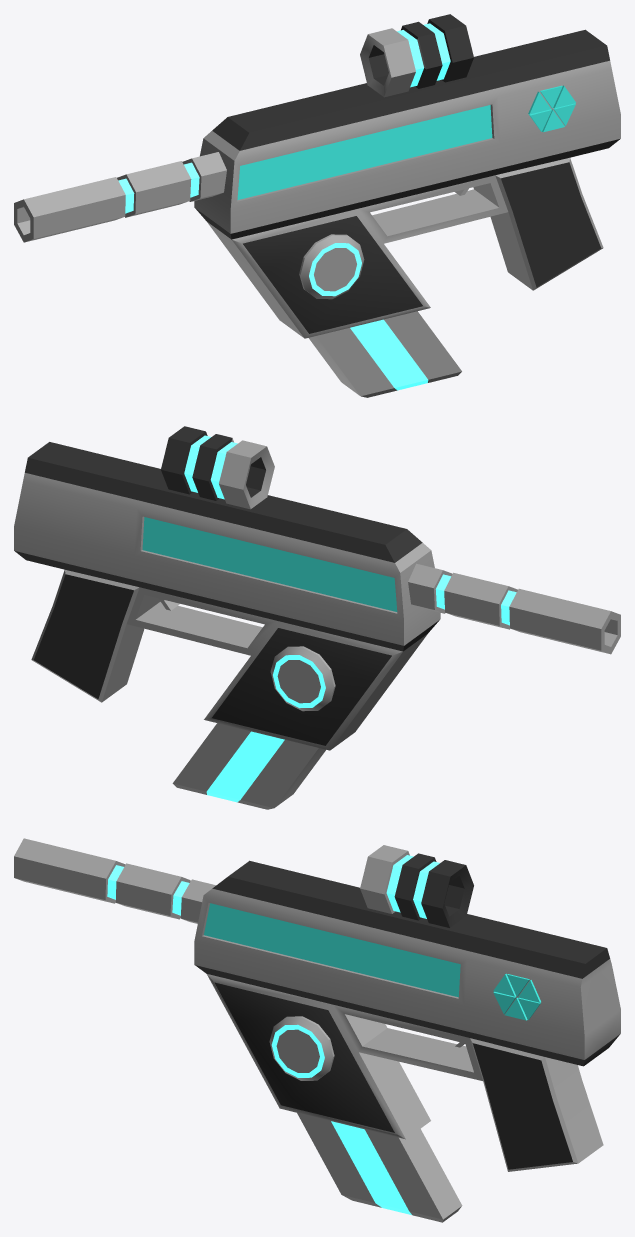
Rendered from smgTecnologica.glb.
3 views of the same model, one above another, from view 1: azimuth 30°, elevation 25°; view 2: azimuth 150°, elevation 25°; view 3: azimuth 330°, elevation 25° (orthographic).
Parts seen in each view (by area): view 1: SMG; view 2: SMG; view 3: SMG.
Boxes of the visible parts, x1,y1,x2,y2 form: SMG: (14,14,620,397); SMG: (14,426,620,809); SMG: (14,838,620,1222).
Bounding box in the file's own units: 0.704 × 0.4046 × 0.0803.
